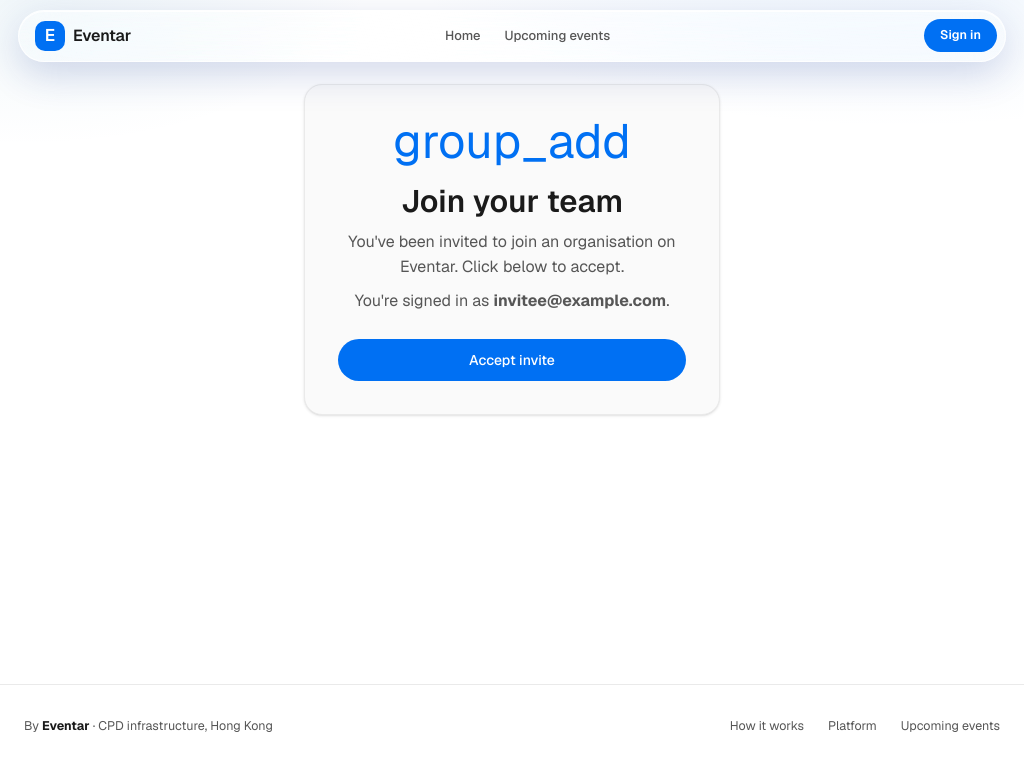
Scenario: invite page — signed in › a rejected action shows an error and leaves the button usable
What coordinates should you click on to do the following:
click the button "Accept invite"
I would click on:
 (512, 360)
Its box is [337,338,687,382].
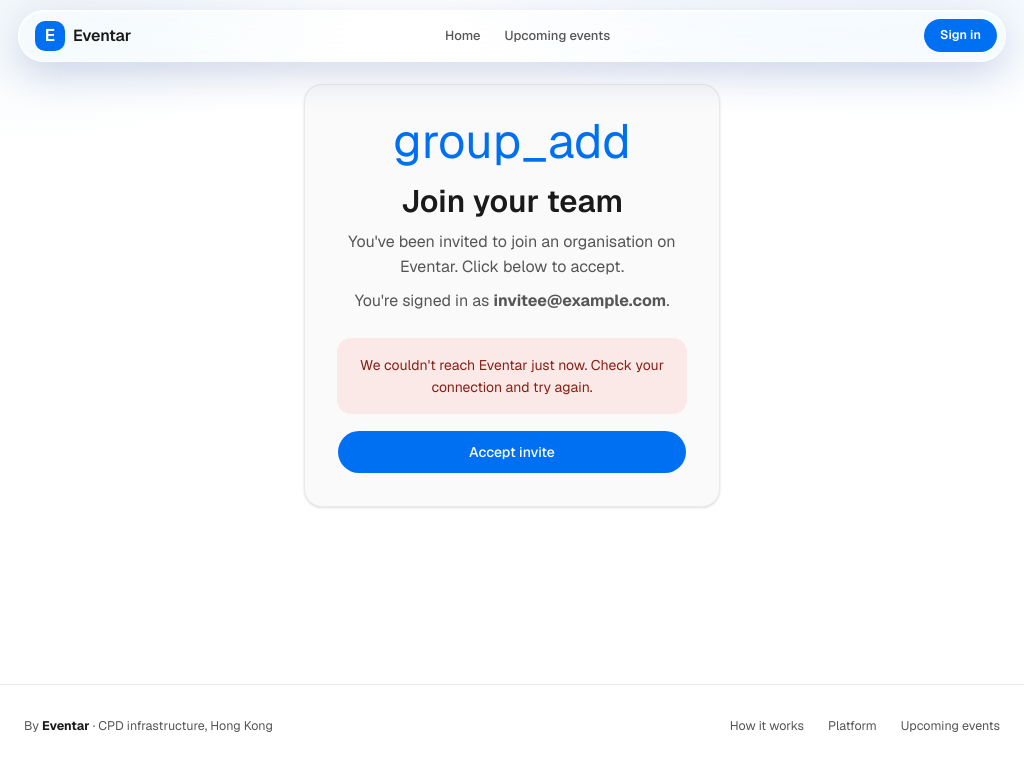
Expected: the message does not show "admin", [337,338,687,414]
Expected: the message shows "couldn't reach Eventar just now", [360,356,664,396]
